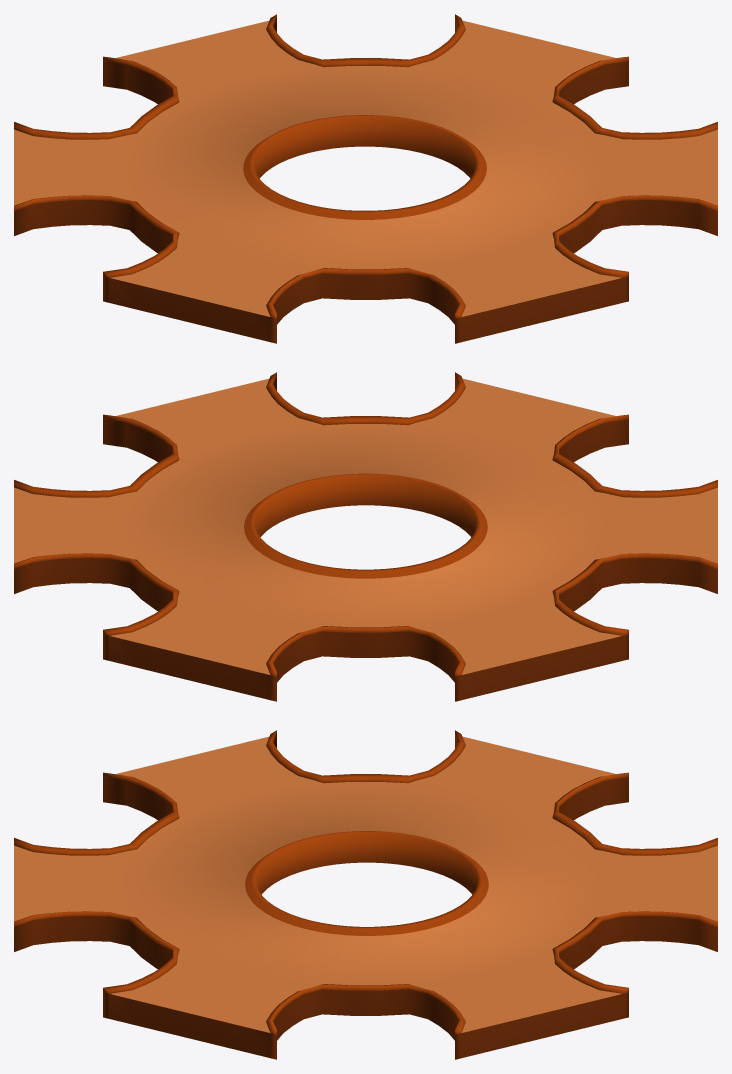
File: Area_CentralSquare.fbx
3 views of the same model, one above another, from view 1: azimuth 30°, elevation 25°; view 2: azimuth 150°, elevation 25°; view 3: azimuth 270°, elevation 25° (orthographic).
Visible parts, largest first — view 1: Area_CentralSquare; view 2: Area_CentralSquare; view 3: Area_CentralSquare.
Boxes of the visible parts, x1,y1,x2,y2 form: Area_CentralSquare: (14, 14, 717, 343); Area_CentralSquare: (14, 372, 717, 701); Area_CentralSquare: (14, 730, 717, 1059).
Size of the model in its own units: 1413 by 65 by 1400.
Materials: 1 (1 with a texture image).
